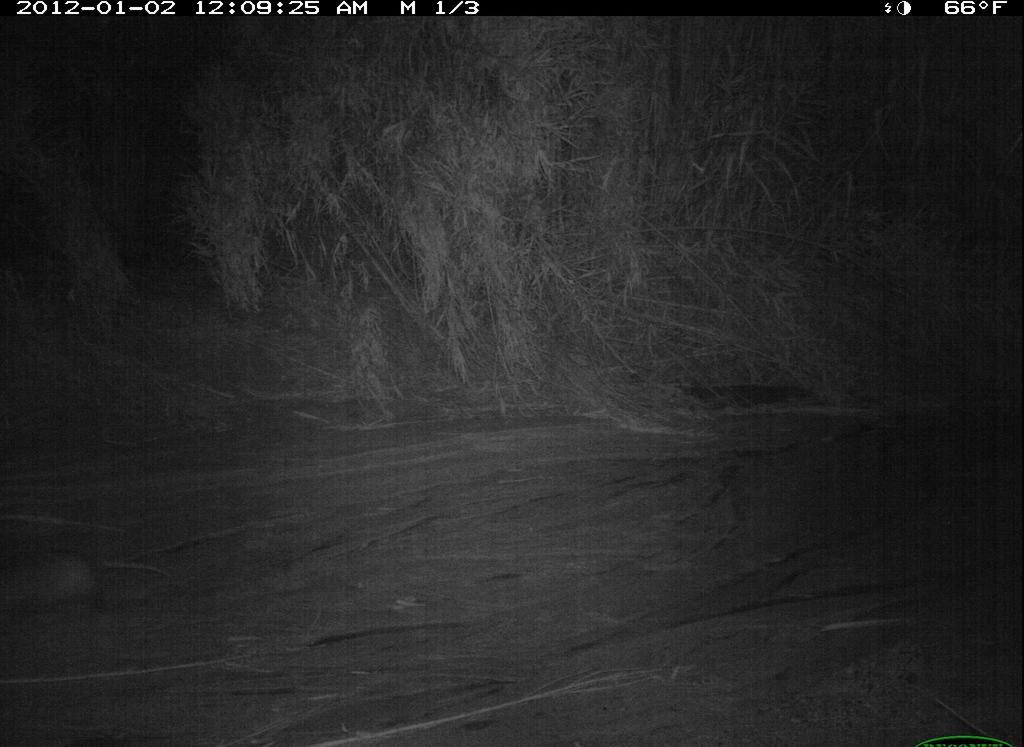opossum: (2, 543, 214, 648)
